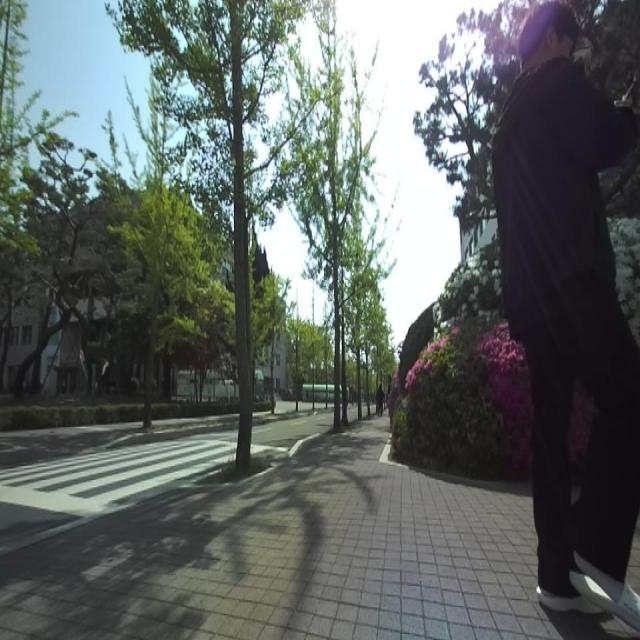sidewalk: (0, 417, 640, 639), (627, 517, 640, 594), (288, 433, 321, 457)
